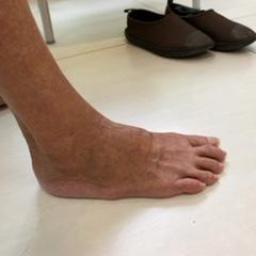Lateral View -Right Foot-: (10, 56, 239, 227)
